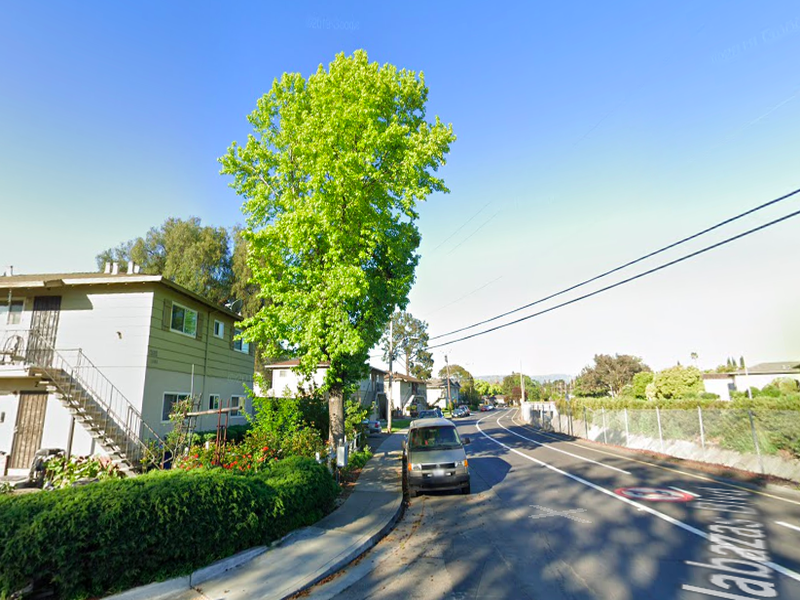tree: (217, 45, 457, 472)
